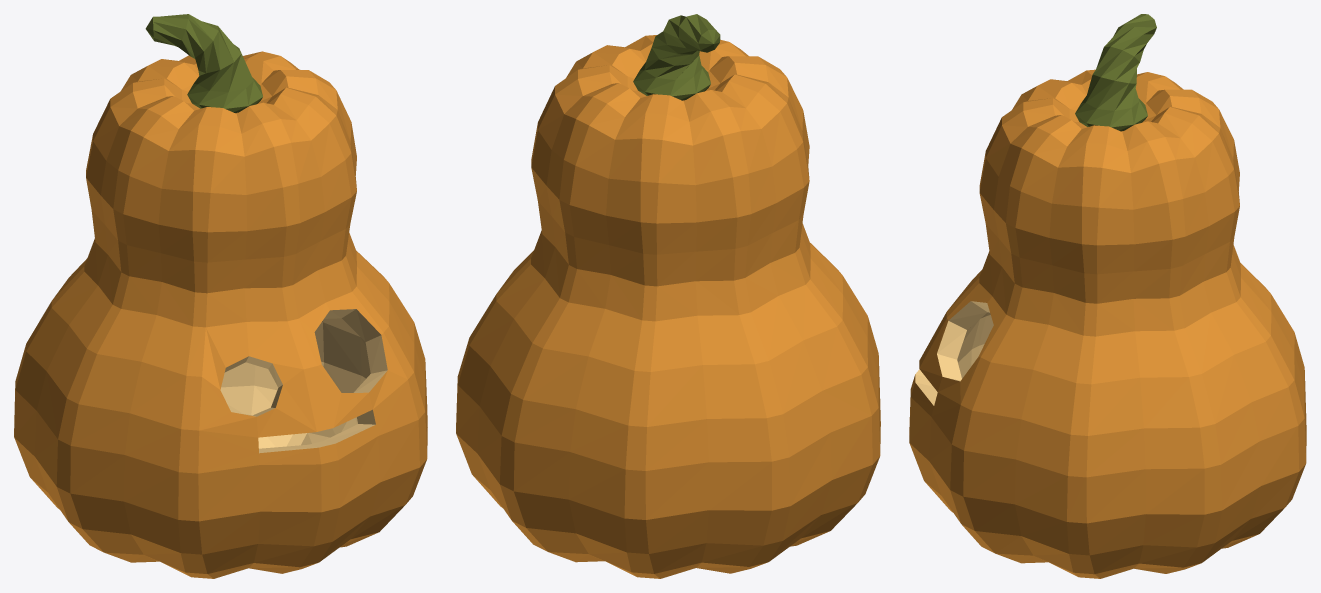
Rendered from Pumpkin_Lantern_3.glb.
3 renders of one model, left to right at view 1: azimuth 30°, elevation 25°; view 2: azimuth 150°, elevation 25°; view 3: azimuth 270°, elevation 25°, orthographic. The views are drawn at different scales.
Bounding box in the file's own units: 18.07 × 24.33 × 17.82.
Materials: 1 (1 with a texture image).
